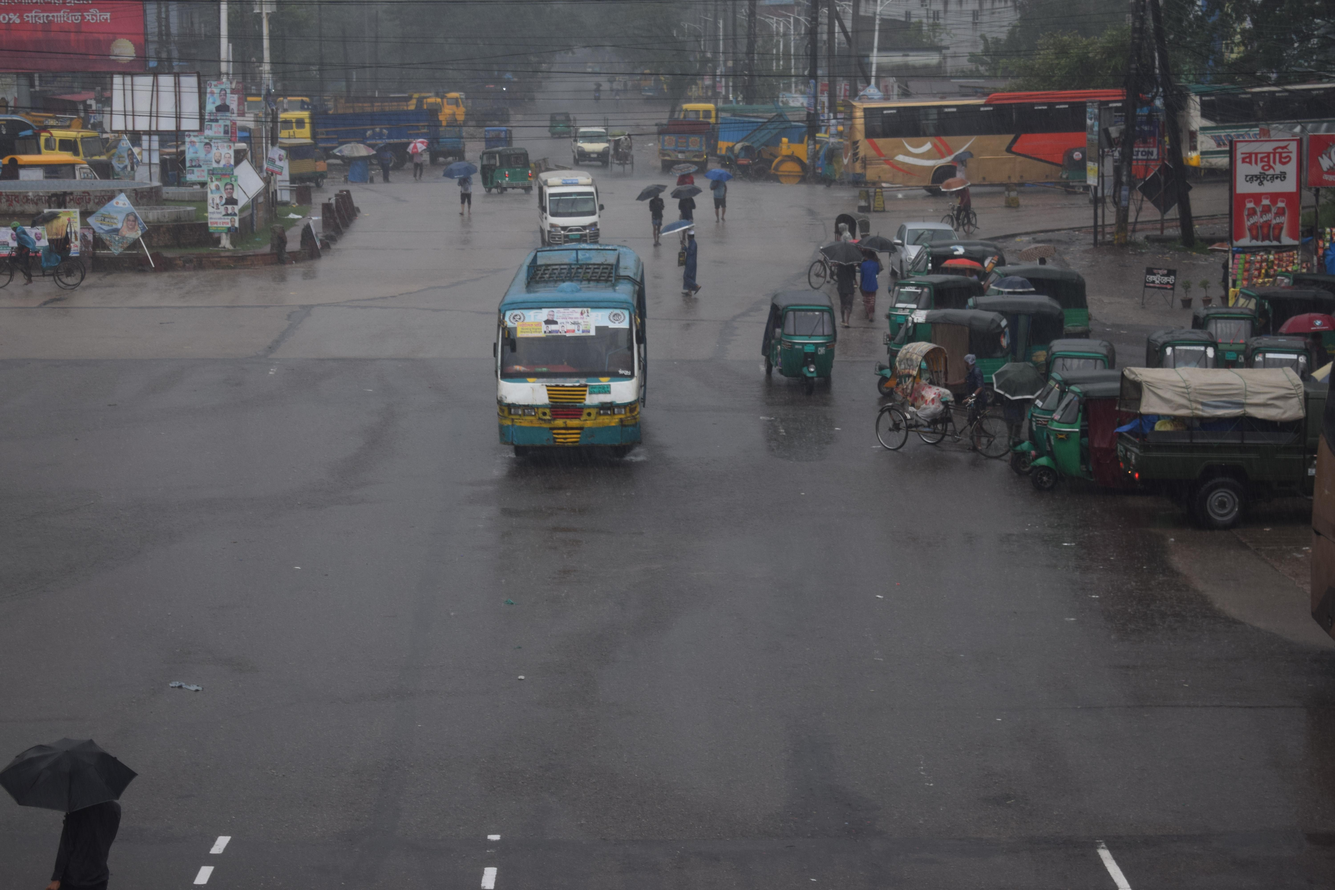Bus: (442, 210, 686, 491), (813, 51, 1188, 214), (1150, 42, 1335, 206)
Car: (862, 334, 1017, 477), (512, 154, 619, 261), (872, 211, 964, 282), (560, 119, 620, 172)
Truck: (1094, 344, 1325, 548), (259, 90, 455, 179), (4, 100, 118, 199)
